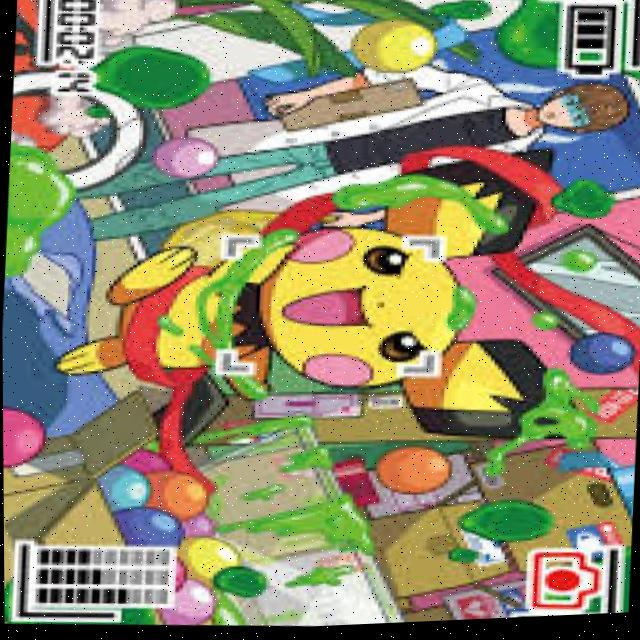pichu: (77, 139, 559, 454)
